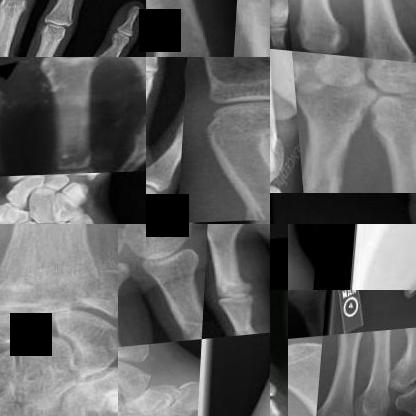fracture: (294, 145, 351, 192), (215, 57, 269, 88), (388, 360, 415, 415), (241, 7, 269, 57), (178, 389, 204, 415), (0, 90, 14, 136)
